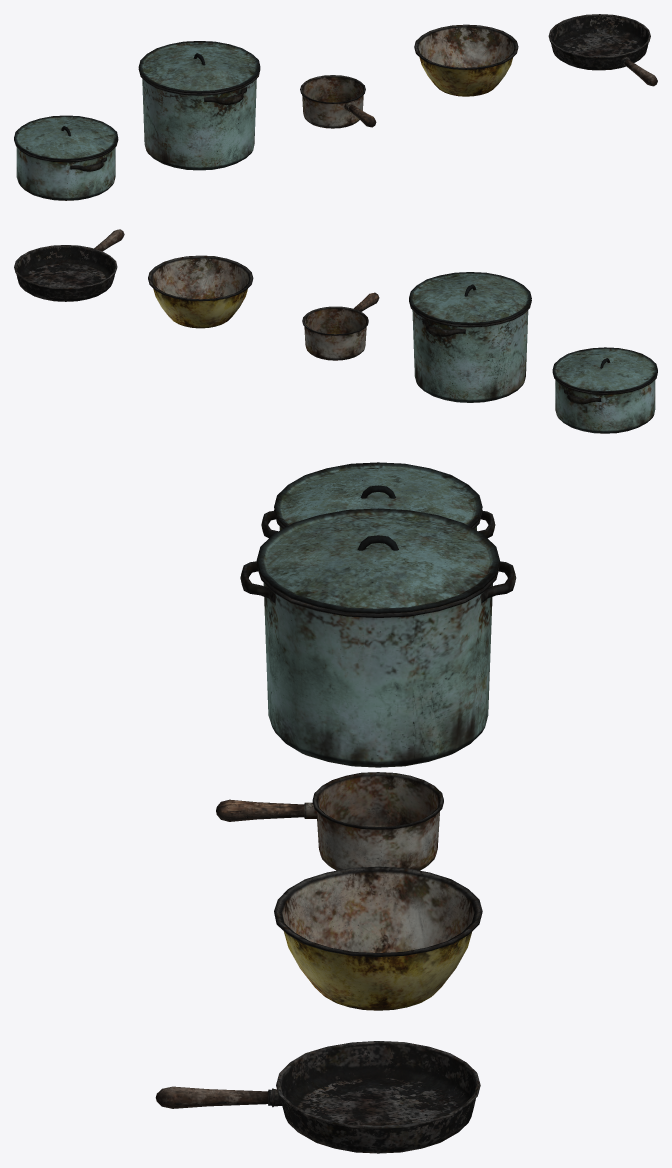
Rendered from UDKS_All.fbx.
3 renders of one model, top to bottom at view 1: azimuth 30°, elevation 25°; view 2: azimuth 150°, elevation 25°; view 3: azimuth 270°, elevation 25°, orthographic. The views are drawn at different scales.
Parts seen in each view (by area): view 1: UDKS_02, UDKS_05, Cap_02, UDKS_04, UDKS_01, Cap_01, UDKS_03; view 2: UDKS_02, UDKS_05, Cap_02, UDKS_04, UDKS_01, Cap_01, UDKS_03; view 3: UDKS_02, UDKS_05, UDKS_04, Cap_02, UDKS_03, Cap_01.
Boxes of the visible parts, left/top/right/bottom form: UDKS_02: left=138, top=68, right=260, bottom=170; UDKS_05: left=414, top=24, right=518, bottom=96; Cap_02: left=138, top=41, right=260, bottom=93; UDKS_04: left=548, top=14, right=657, bottom=86; UDKS_01: left=14, top=139, right=118, bottom=200; Cap_01: left=14, top=115, right=118, bottom=160; UDKS_03: left=300, top=75, right=376, bottom=128; UDKS_02: left=409, top=300, right=531, bottom=402; UDKS_05: left=148, top=255, right=253, bottom=328; Cap_02: left=409, top=272, right=531, bottom=325; UDKS_04: left=14, top=229, right=124, bottom=301; UDKS_01: left=552, top=371, right=657, bottom=433; Cap_01: left=552, top=347, right=657, bottom=392; UDKS_03: left=302, top=292, right=379, bottom=360; UDKS_02: left=240, top=561, right=516, bottom=767; UDKS_05: left=274, top=866, right=482, bottom=1010; UDKS_04: left=155, top=1041, right=480, bottom=1153; Cap_02: left=256, top=508, right=499, bottom=613; UDKS_03: left=216, top=772, right=443, bottom=870; Cap_01: left=274, top=462, right=482, bottom=527.
Size of the model in its own units: 234 by 34.15 by 58.52.
1 material, 1 textured.
